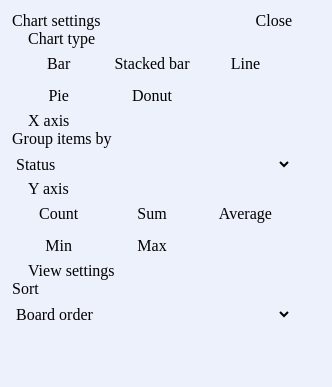
Test: ChartSettingsPanel › picks the measure and its Numbers column
Expected: the field labelled "Numbers column" is not shown
Click the button "Sum" at (152, 214), box [105,198,199,230]
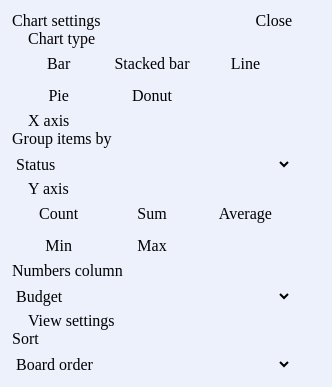
Result: the dropdown labelled "Numbers column" shows "Budget" at [12,280,292,312]
